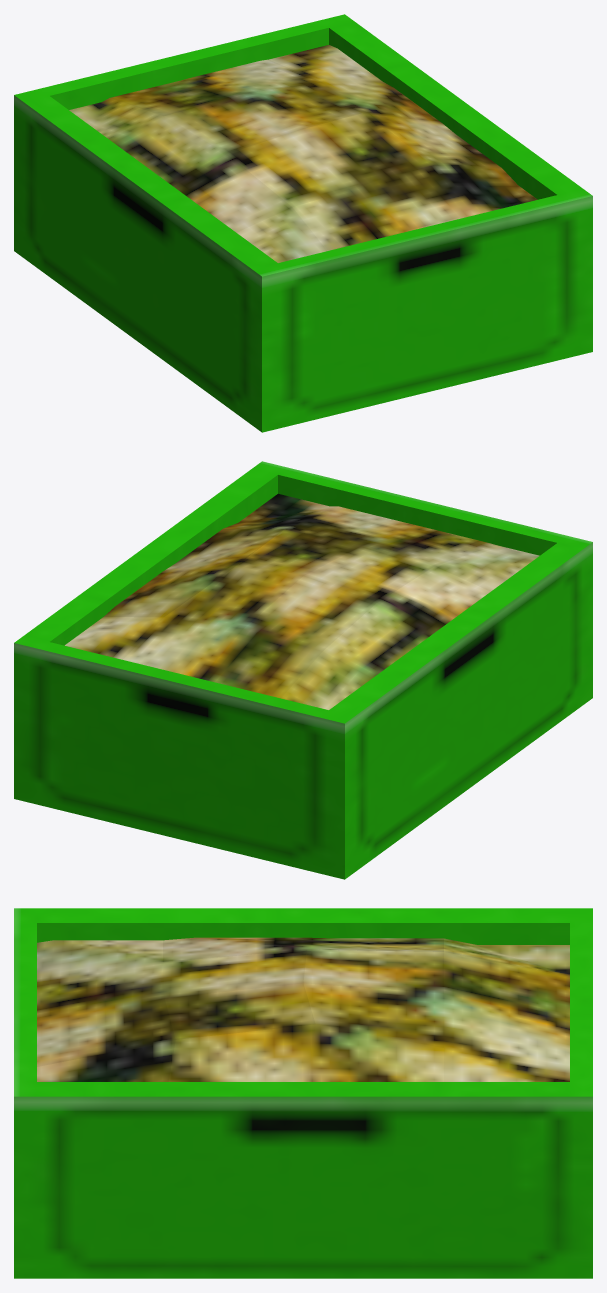
File: FruitsBan.fbx
The picture shows the model from 3 angles, top to bottom: view 1: azimuth 30°, elevation 25°; view 2: azimuth 150°, elevation 25°; view 3: azimuth 270°, elevation 25°; orthographic projection. The views are drawn at different scales.
Visible parts, largest first — view 1: box, fruitsBan; view 2: box, fruitsBan; view 3: box, fruitsBan.
Part boxes in pixels (bbox=[...]): box: bbox=[14, 14, 592, 432]; fruitsBan: bbox=[69, 45, 537, 262]; box: bbox=[14, 461, 592, 879]; fruitsBan: bbox=[65, 493, 539, 709]; box: bbox=[14, 908, 592, 1278]; fruitsBan: bbox=[37, 937, 569, 1081].
Bounding box in the file's own units: 62.18 × 30.97 × 80.78.
